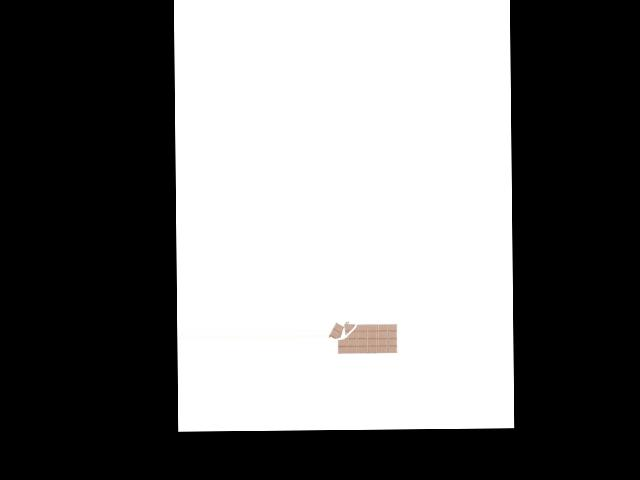chocolate: (328, 314, 398, 358)
